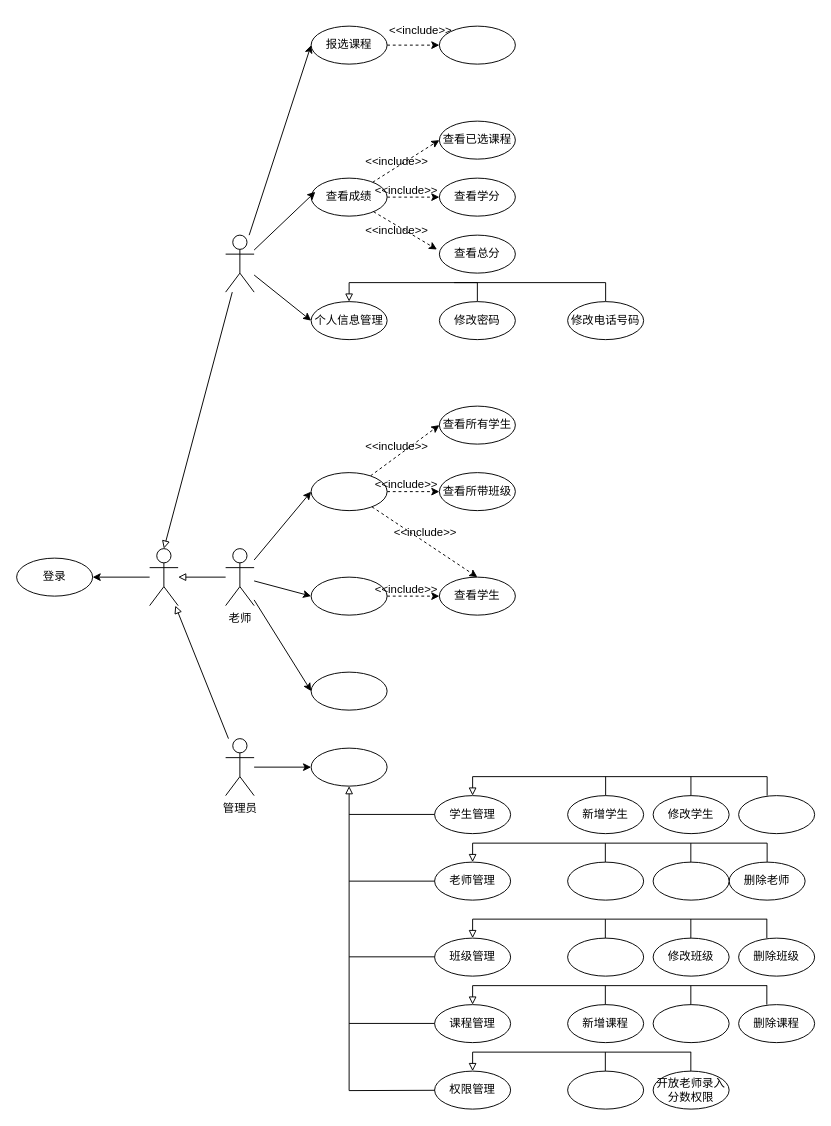
Image size: 831x1126. Some labels were removed from this diagram. Here are the shapes that lost their labels. From the top down, the centre of each, then its label:
At point 476,44: "查看可选课程".
At point 239,263: "学生".
At point 348,491: "接受学生选课".
At point 163,577: "用户".
At point 348,595: "给学生打分".
At point 348,690: "查看课程表".
At point 348,766: "系统管理".
At point 776,814: "删除学生".
At point 605,880: "新增老师".
At point 690,880: "修改老师".
At point 605,956: "新增班级".
At point 690,1023: "修改课程".
At point 605,1089: "开放学生查分权限".
